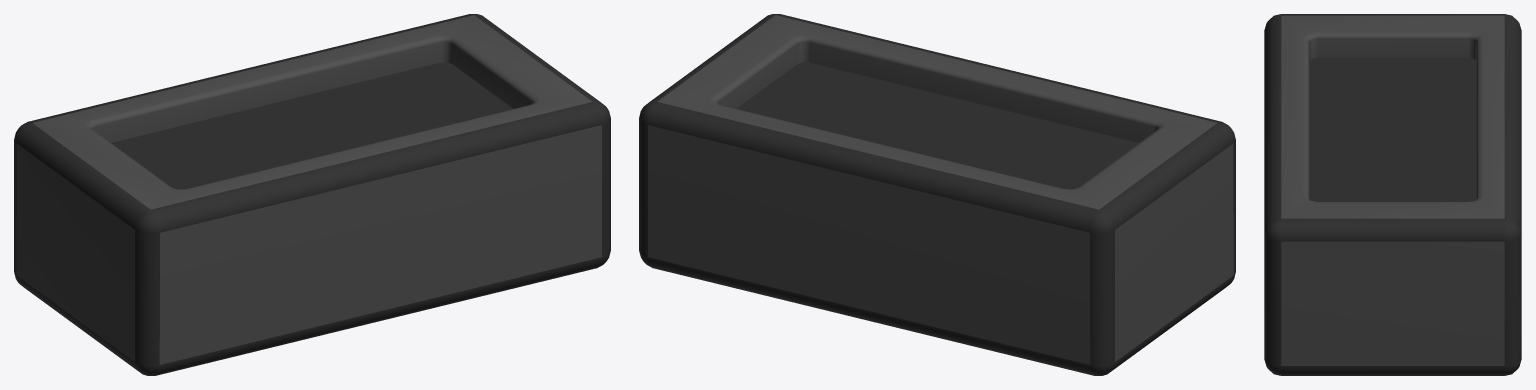
Rendered from Smooth Brick.fbx.
The picture shows the model from 3 angles, left to right: view 1: azimuth 30°, elevation 25°; view 2: azimuth 150°, elevation 25°; view 3: azimuth 270°, elevation 25°; orthographic projection. The views are drawn at different scales.
Visible parts, largest first — view 1: Smooth_Brick; view 2: Smooth_Brick; view 3: Smooth_Brick.
Boxes of the visible parts, box(x1,y1,x2,y2) form: Smooth_Brick: box(14, 14, 610, 375); Smooth_Brick: box(639, 14, 1235, 375); Smooth_Brick: box(1264, 14, 1521, 375).
Bounding box in the file's own units: 27.69 × 9.23 × 13.84.
